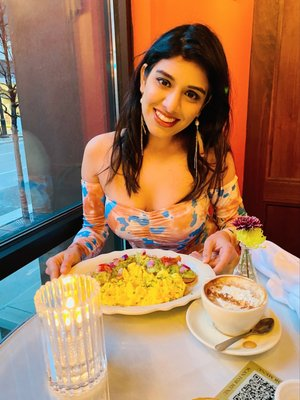salad: (215, 317, 276, 352)
sushi: (200, 274, 269, 337)
